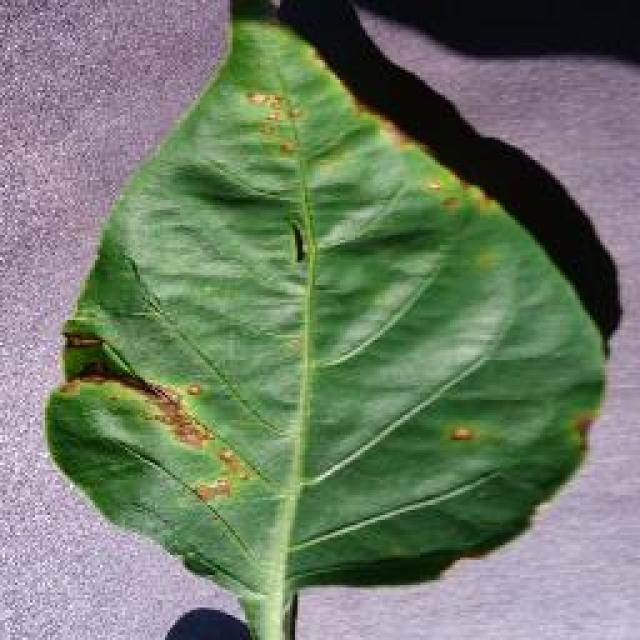Chilli_Bacterial_Spot: (40, 10, 612, 638), (52, 325, 258, 513), (135, 372, 257, 510), (137, 380, 215, 452), (238, 82, 308, 160), (188, 442, 252, 508), (163, 408, 215, 452), (190, 472, 235, 508), (285, 218, 310, 268), (568, 410, 598, 442), (210, 442, 240, 472), (445, 423, 475, 445), (180, 378, 205, 400)
